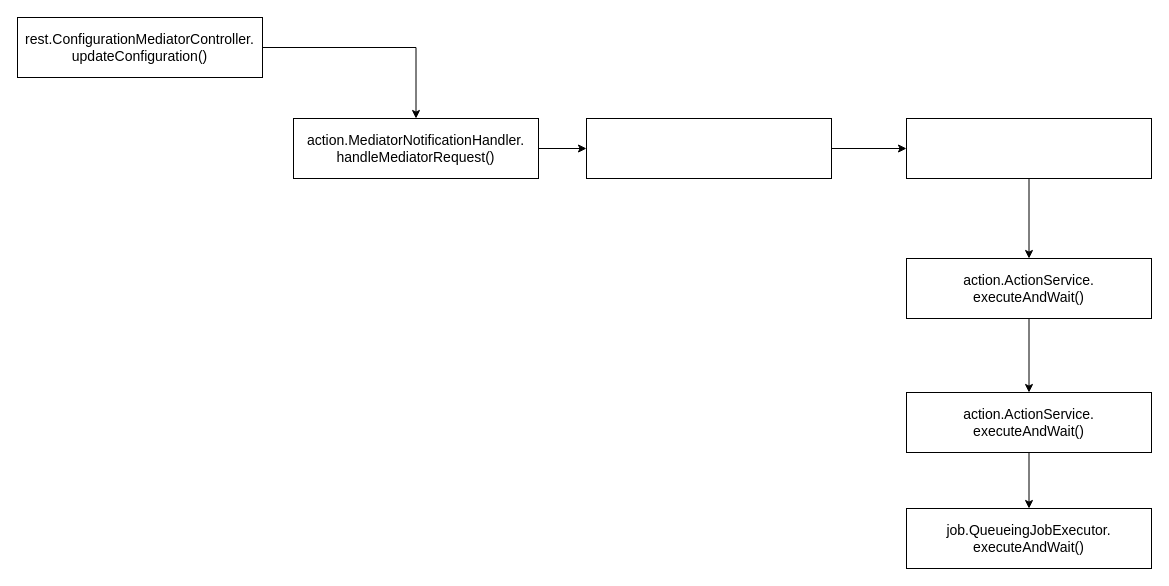
Some shapes in this 1169 by 586 pixel diagram are drawn without their labels. Each missing label, with the centre of its shape:
executeHouseKeepingFromMediator(): (1029,148)
updateHousekeeping(): (709,148)
